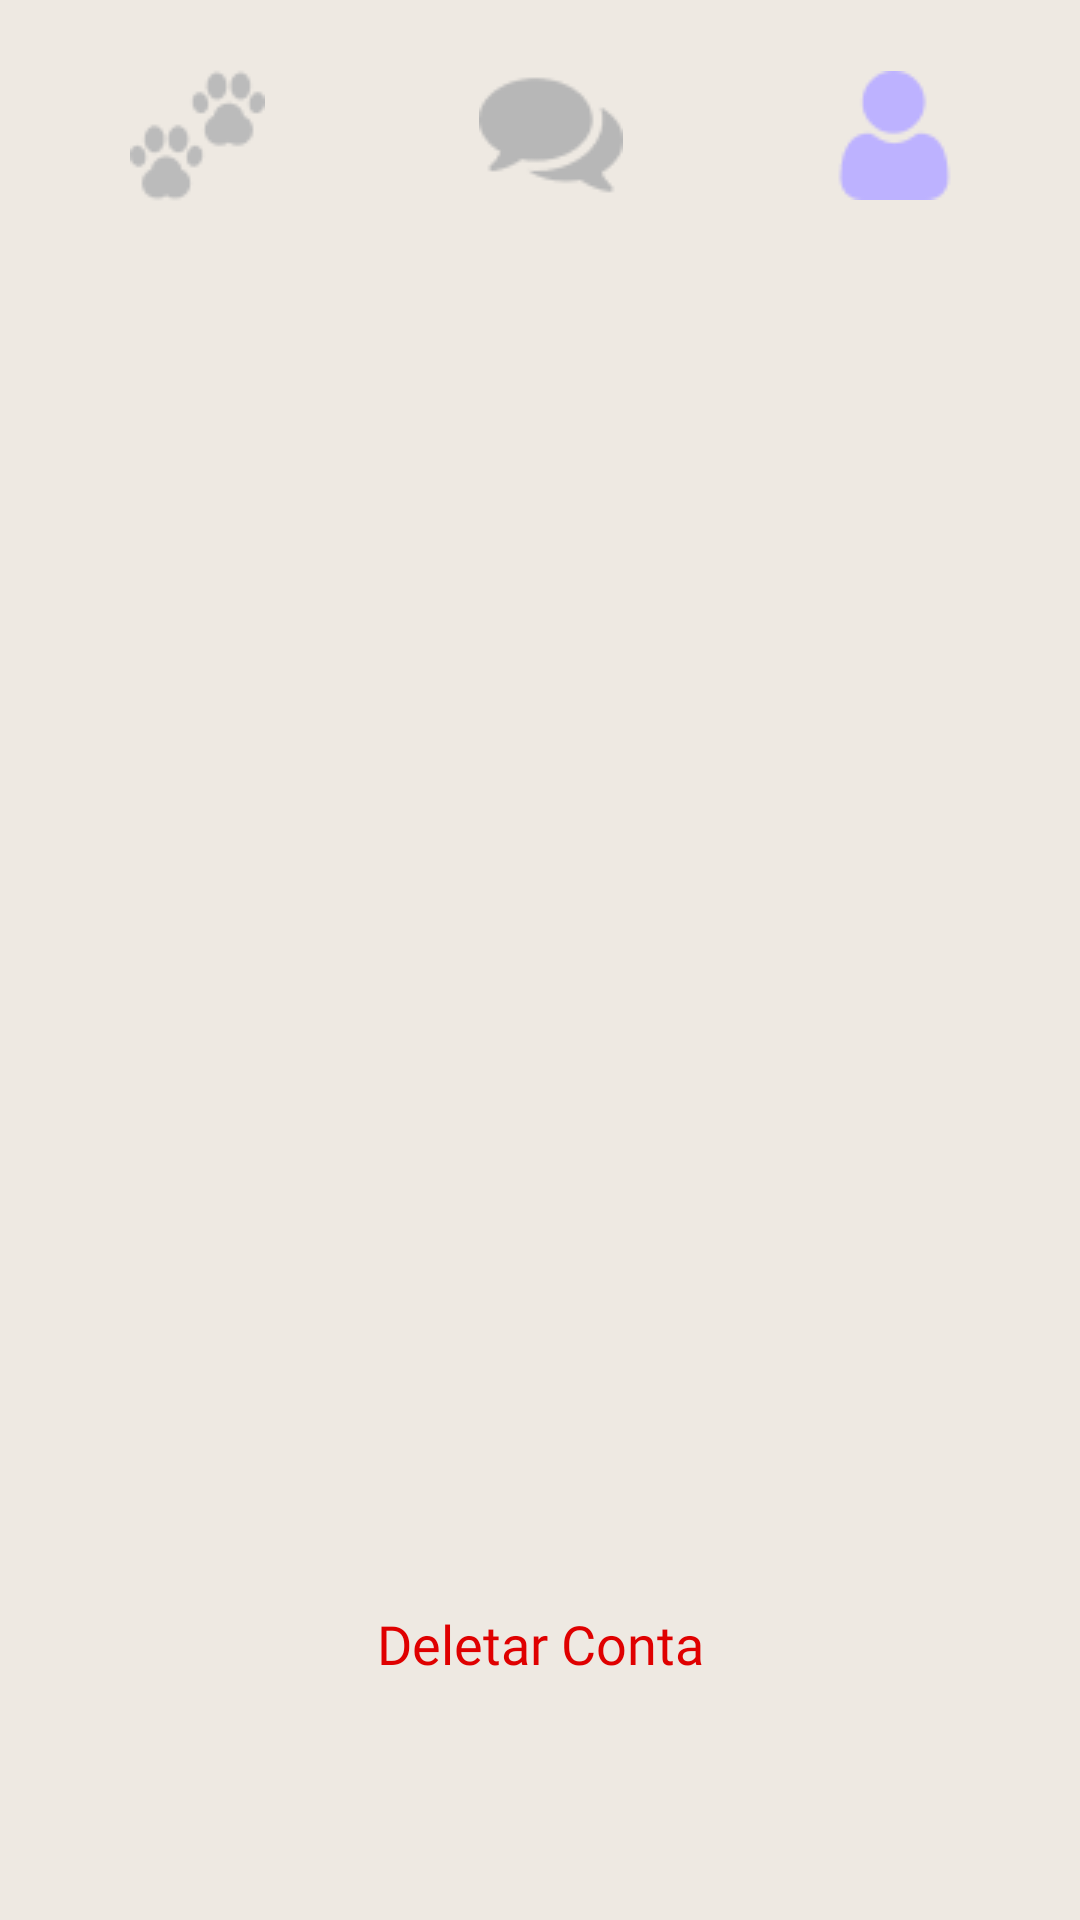

Screen size 1080w x 1920h. Icon name, then its box in pixels as region(x1, y1, x2, y2):
iconechatnormal: region(479, 78, 623, 192)
iconeperfilativado: region(840, 71, 948, 200)
iconepetchnormal: region(130, 73, 265, 198)
